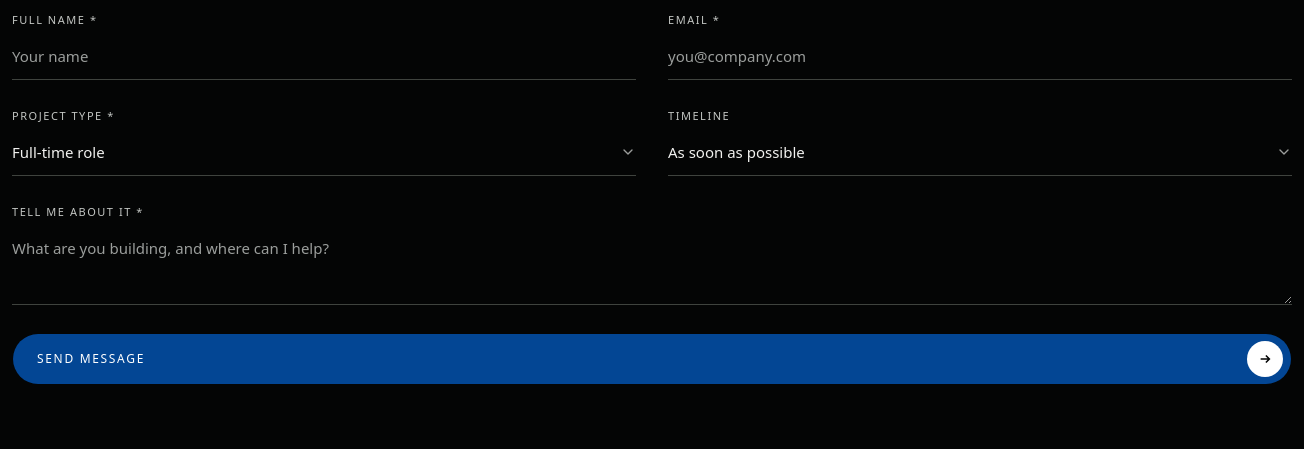
Test: ContactForm › menampilkan pesan error saat field wajib kosong
This screenshot has width=1304, height=449.
Click the button "Send message".
click(91, 358)  # box [12,332,1292,384]
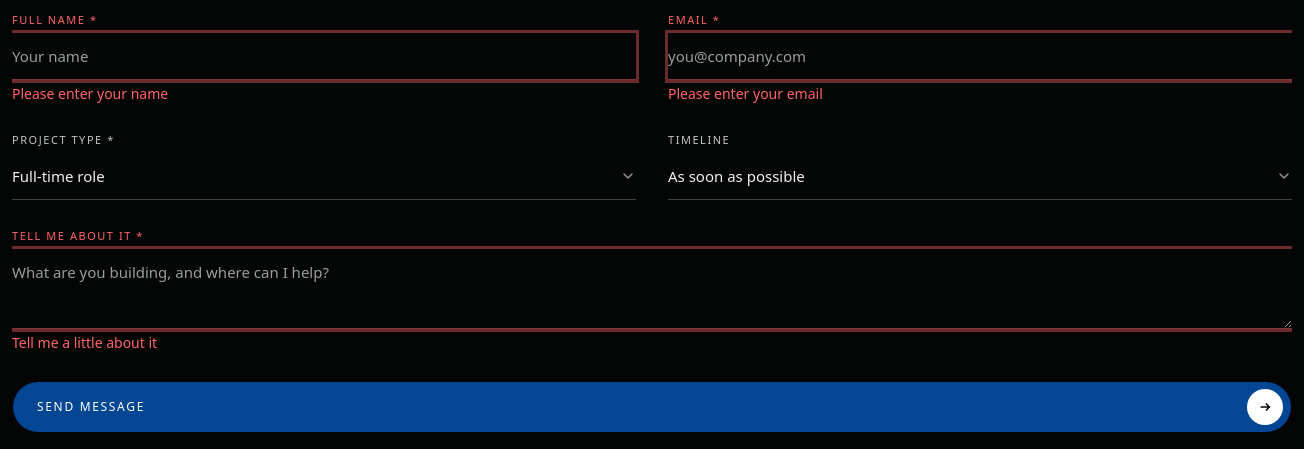
Result: the text "Please enter your name" is shown at [12,84,168,103]
Result: the text "Please enter your email" is shown at [668,84,823,103]
Result: the text "Tell me a little about it" is shown at [12,332,157,352]
